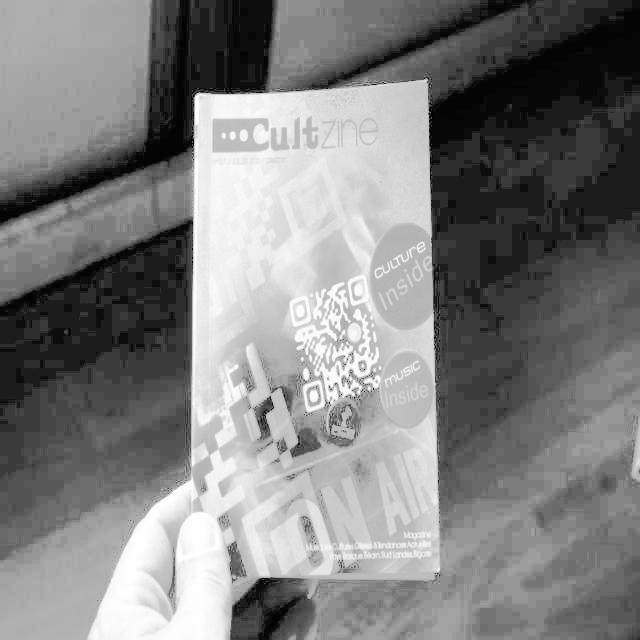qr_code: (289, 274, 385, 413)
